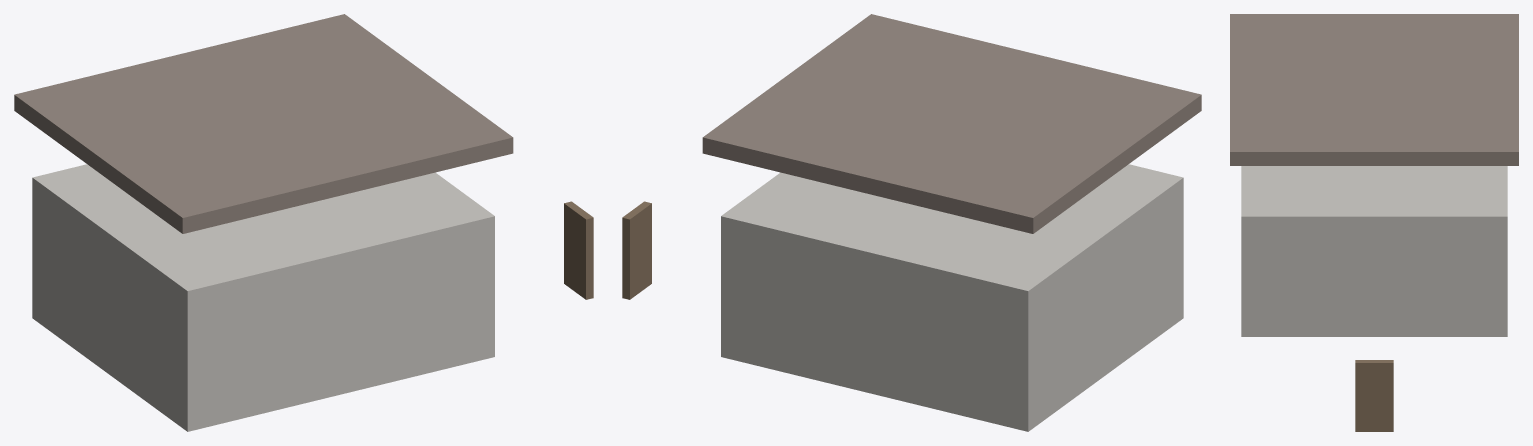
The model's file is building_house_medium.glb.
3 renders of one model, left to right at view 1: azimuth 30°, elevation 25°; view 2: azimuth 150°, elevation 25°; view 3: azimuth 270°, elevation 25°, orthographic. The views are drawn at different scales.
Visible parts, largest first — view 1: building_house_medium; view 2: building_house_medium; view 3: building_house_medium.
Boxes of the visible parts, left/top/right/bottom form: building_house_medium: left=14, top=14, right=593, bottom=431; building_house_medium: left=622, top=14, right=1201, bottom=431; building_house_medium: left=1230, top=14, right=1518, bottom=431.
Size of the model in its own units: 6.3 by 3.13 by 3.8.
